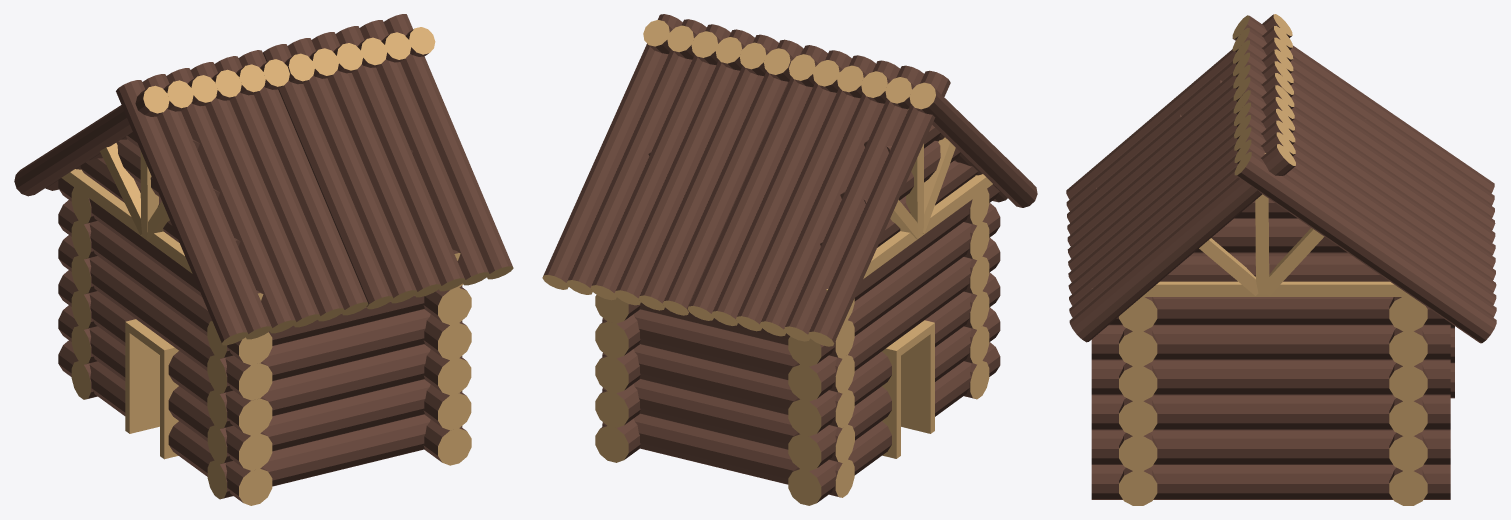
3 renders of one model, left to right at view 1: azimuth 30°, elevation 25°; view 2: azimuth 150°, elevation 25°; view 3: azimuth 270°, elevation 25°, orthographic.
Parts seen in each view (by area): view 1: node_MeshObject321651840-PolyPaper20; view 2: node_MeshObject321651840-PolyPaper20; view 3: node_MeshObject321651840-PolyPaper20.
Boxes of the visible parts, x1,y1,x2,y2 form: node_MeshObject321651840-PolyPaper20: [14, 14, 513, 505]; node_MeshObject321651840-PolyPaper20: [542, 14, 1037, 505]; node_MeshObject321651840-PolyPaper20: [1066, 14, 1496, 505].
Bounding box in the file's own units: 0.7707 × 0.9275 × 0.9718.
